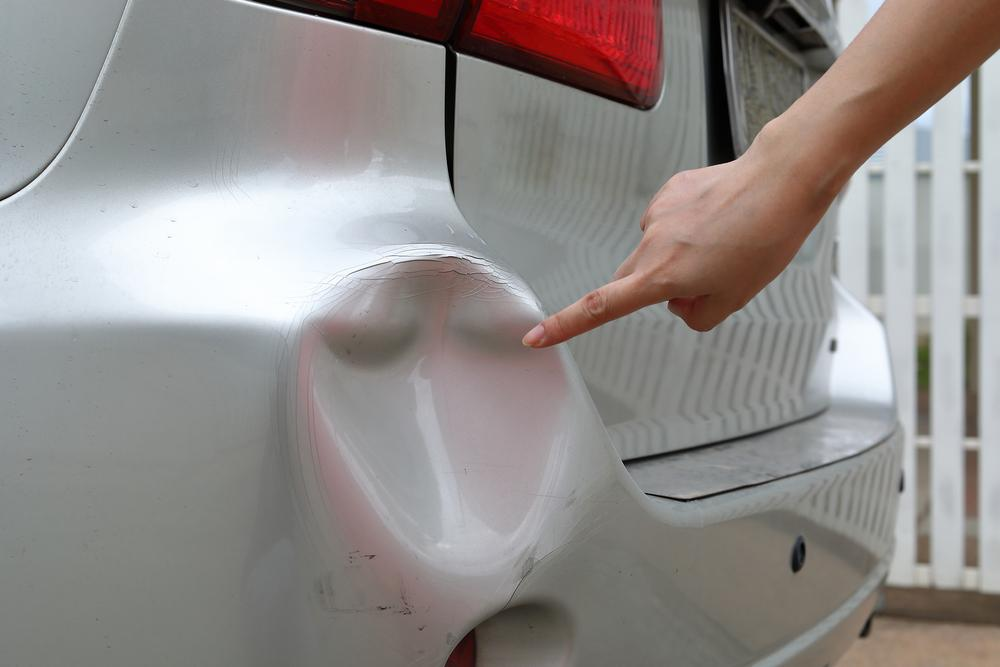dent: (281, 246, 582, 576)
